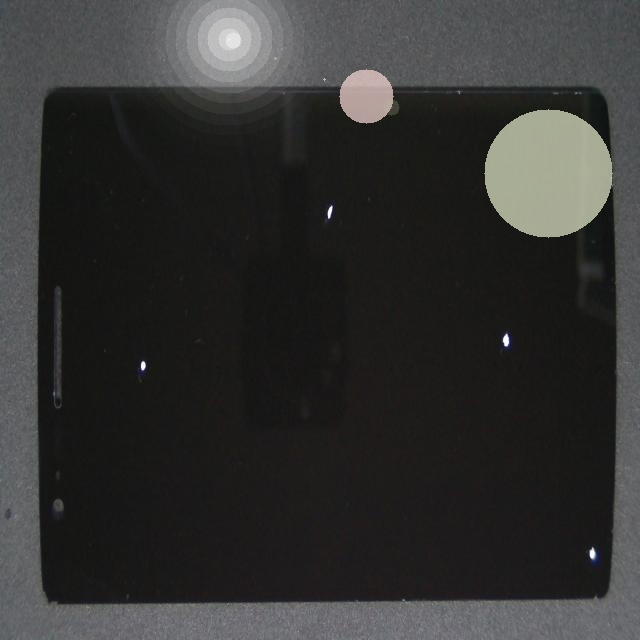stain: (207, 169, 640, 534), (315, 250, 640, 640), (179, 51, 489, 277), (51, 139, 189, 564)
